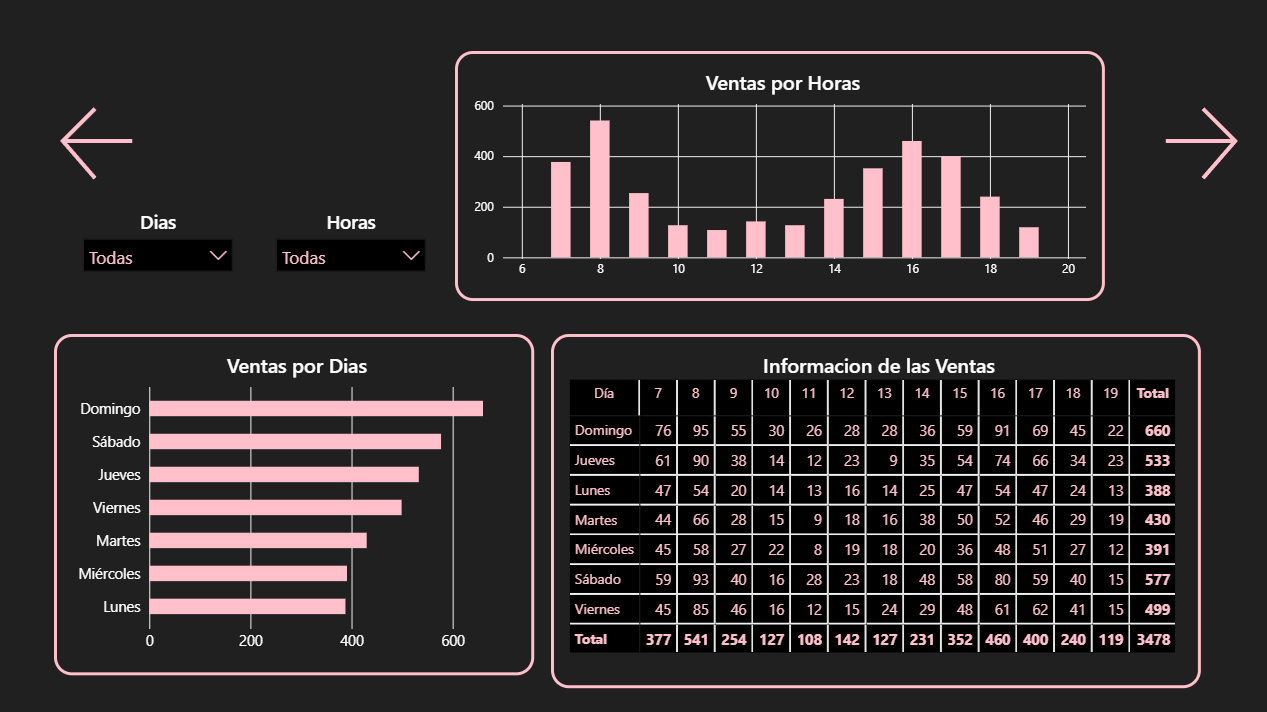

Layout of this report page (visuals, bound fields, positions):
{"tool":"powerbi","page":{"name":"Pagina 3","canvas":[1280,720],"ordinal":2},"visuals":[{"type":"clusteredColumnChart","title":"Ventas por Horas","fields":{"Category":["public ventas.Hora Venta"],"Y":["CountNonNull(public ventas.id_venta)"]},"box":[459.6,53.4,655.1,252],"z":0},{"type":"clusteredBarChart","title":"Ventas por Dias","fields":{"Category":["public ventas.Día"],"Y":["CountNonNull(public ventas.id_venta)"]},"box":[55.4,338.6,483.8,343.7],"z":1000},{"type":"pivotTable","title":"Informacion de las Ventas","fields":{"Rows":["public ventas.Día"],"Columns":["public ventas.Hora Venta"],"Values":["Medidas.Ventas Totales"]},"box":[556.3,338.6,655.1,356.8],"z":2000},{"type":"slicer","title":"Dias","fields":{"Values":["public ventas.Día"]},"box":[79.6,212.7,161.3,81.6],"z":3000},{"type":"slicer","title":"Horas","fields":{"Values":["public ventas.Hora Venta"]},"box":[274.1,212.7,161.3,81.6],"z":4000},{"type":"actionButton","box":[1150,79.6,122,134],"z":5000},{"type":"actionButton","box":[38.3,79.6,122,134],"z":6000}]}

Visuals, with their boxes in screenshot pixels (x1, y1, x2, y2), scaled from the page's 1280x720 canvas onto the 1267x712 screenshot:
"Ventas por Horas" clusteredColumnChart: x1=455, y1=53, x2=1103, y2=302
"Ventas por Dias" clusteredBarChart: x1=55, y1=335, x2=534, y2=675
"Informacion de las Ventas" pivotTable: x1=551, y1=335, x2=1199, y2=688
"Dias" slicer: x1=79, y1=210, x2=238, y2=291
"Horas" slicer: x1=271, y1=210, x2=431, y2=291
actionButton: x1=1138, y1=79, x2=1259, y2=211
actionButton: x1=38, y1=79, x2=159, y2=211
